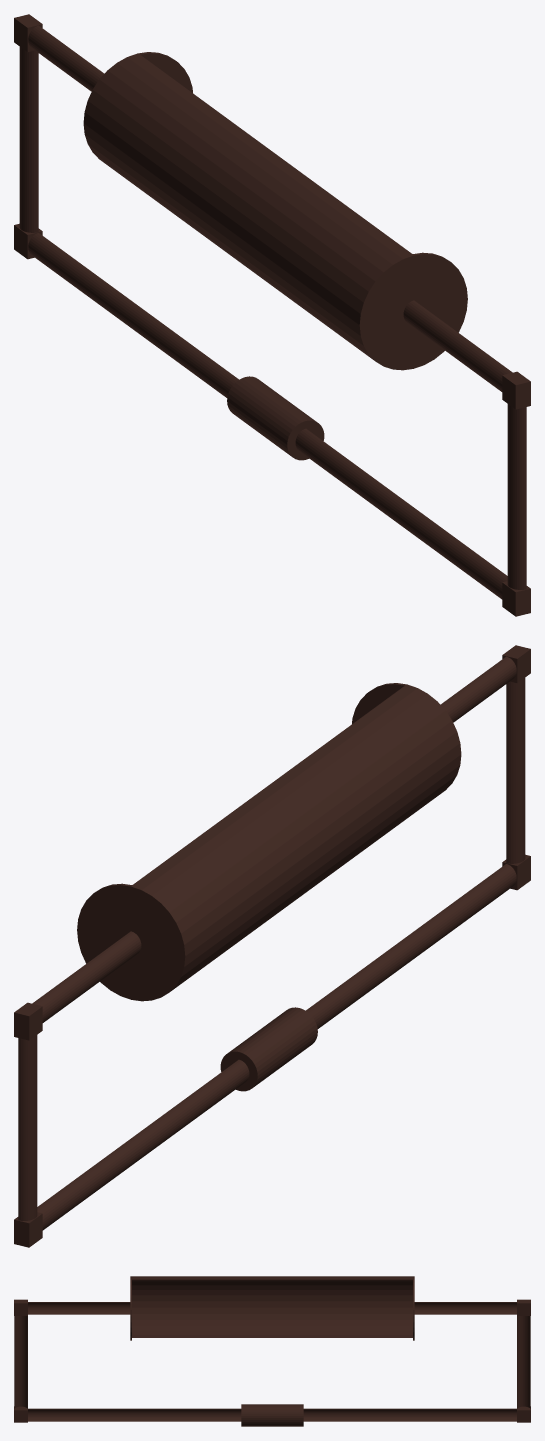
The model's file is Final FOE 2.gltf.
3 views of the same model, one above another, from view 1: azimuth 30°, elevation 25°; view 2: azimuth 150°, elevation 25°; view 3: azimuth 270°, elevation 25° (orthographic). The views are drawn at different scales.
Visible parts, largest first — view 1: Cylinder; view 2: Cylinder; view 3: Cylinder.
Part boxes in pixels (x1,y1,x2,y2): Cylinder: (14,14,530,616); Cylinder: (14,645,530,1247); Cylinder: (14,1276,530,1426).
Bounding box in the file's own units: 2.81 × 7.03 × 22.56.
